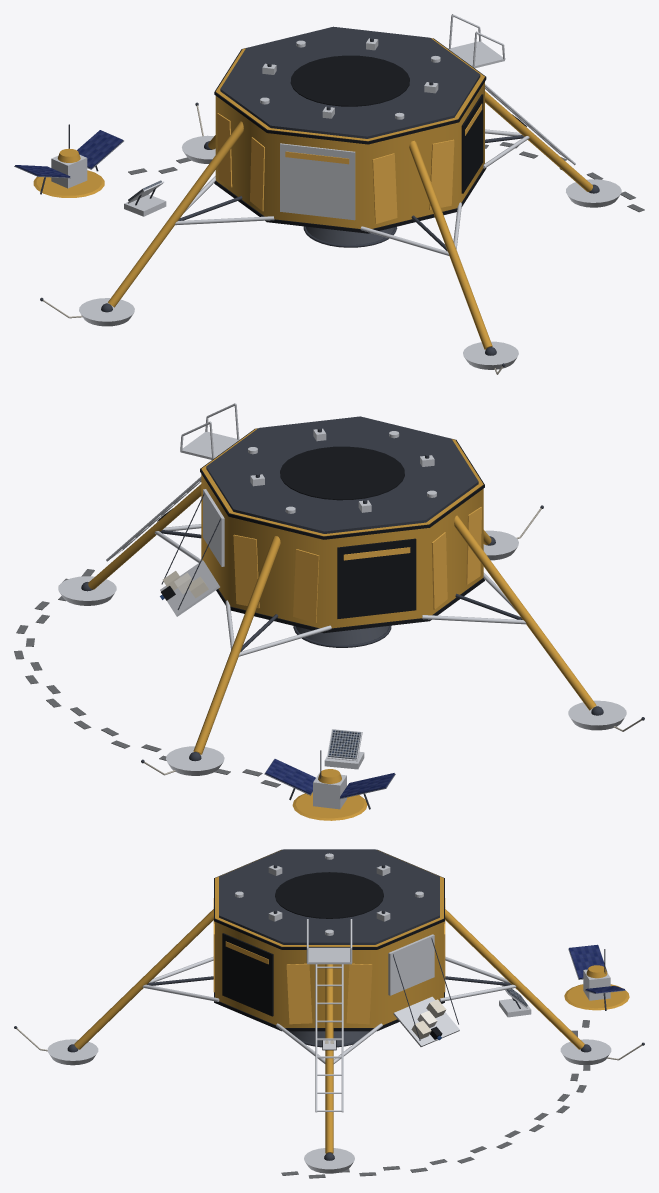
File: apollo11lm.glb
The picture shows the model from 3 angles, top to bottom: view 1: azimuth 30°, elevation 25°; view 2: azimuth 150°, elevation 25°; view 3: azimuth 270°, elevation 25°; orthographic projection. The views are drawn at different scales.
Size of the model in its own units: 11.09 by 3.81 by 11.56.
14 materials, 2 textured.
